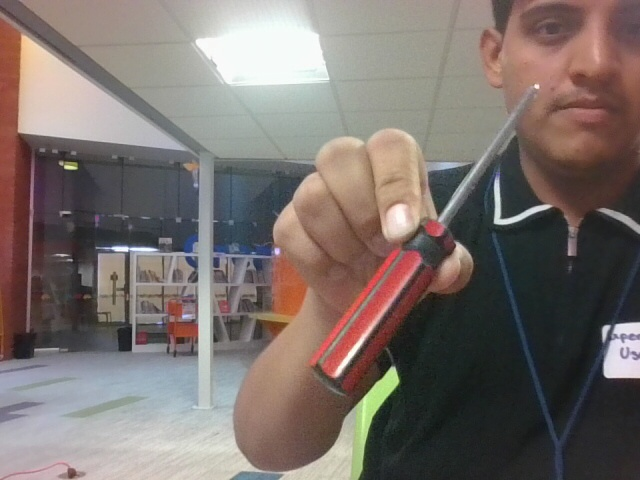destornillador: (314, 85, 538, 395)
